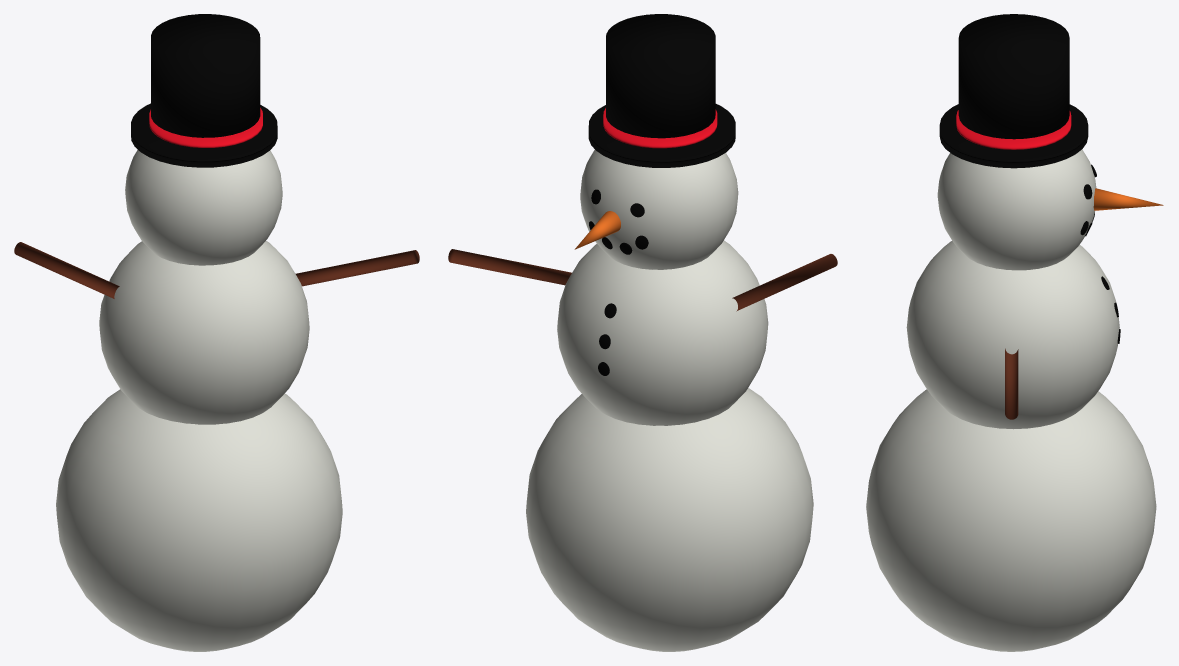
Rendered from testsnowman.fbx.
The picture shows the model from 3 angles, left to right: view 1: azimuth 30°, elevation 25°; view 2: azimuth 150°, elevation 25°; view 3: azimuth 270°, elevation 25°; orthographic projection.
Parts seen in each view (by area): view 1: BodyBase, BodyMiddle, BodyHead, Hat2, Hat, rarm, larm, HatBand; view 2: BodyBase, BodyMiddle, BodyHead, Hat2, Hat, rarm, larm, HatBand, Nose; view 3: BodyBase, BodyMiddle, BodyHead, Hat2, Hat, HatBand, rarm, Nose.
Boxes of the visible parts, box(x1,y1,x2,y2) form: BodyBase: box(56, 389, 342, 651); BodyMiddle: box(99, 241, 309, 424); BodyHead: box(125, 150, 282, 265); Hat2: box(151, 14, 260, 137); Hat: box(131, 103, 277, 167); rarm: box(295, 250, 419, 286); larm: box(14, 242, 119, 298); HatBand: box(149, 107, 262, 147); BodyBase: box(526, 388, 813, 651); BodyMiddle: box(557, 240, 768, 425); BodyHead: box(580, 150, 738, 269); Hat2: box(606, 14, 715, 138); Hat: box(588, 104, 735, 167); rarm: box(448, 249, 571, 285); larm: box(732, 254, 837, 311); HatBand: box(603, 108, 717, 148); Nose: box(574, 211, 620, 249); BodyBase: box(866, 389, 1156, 651); BodyMiddle: box(906, 241, 1119, 429); BodyHead: box(937, 149, 1096, 270); Hat2: box(958, 14, 1069, 139); Hat: box(939, 104, 1088, 168); HatBand: box(956, 110, 1071, 149); rarm: box(1005, 348, 1018, 419); Nose: box(1093, 188, 1163, 210).
Bounding box in the file's own units: 573 × 836 × 374.
